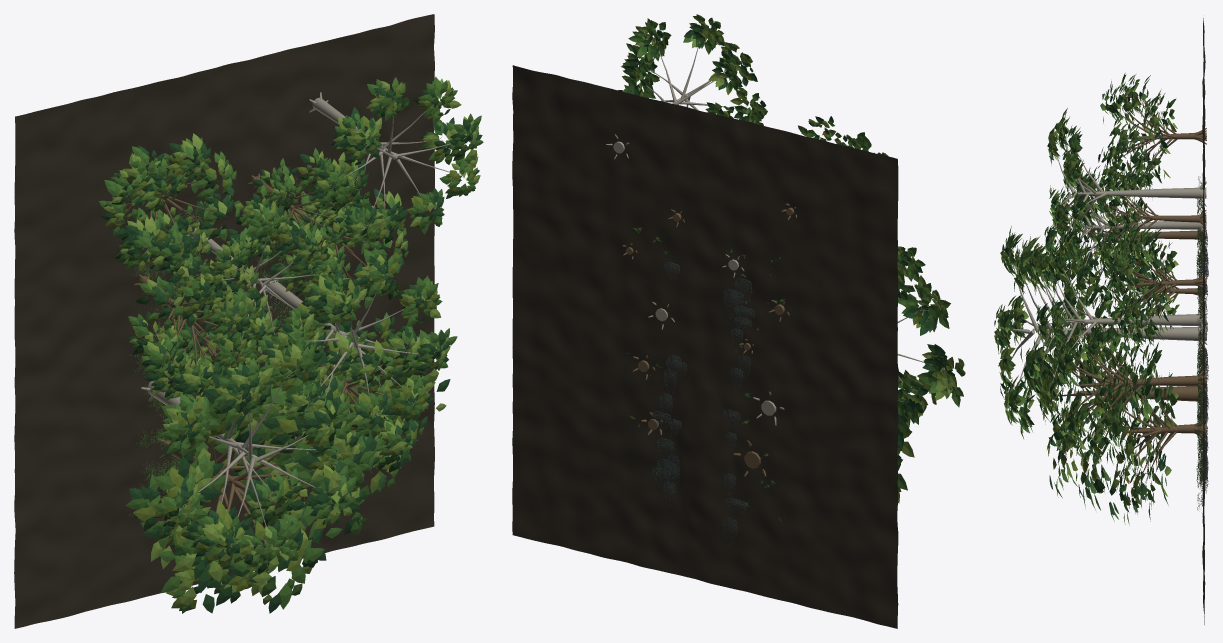
Rendered from forest-set.glb.
3 renders of one model, left to right at view 1: azimuth 30°, elevation 25°; view 2: azimuth 150°, elevation 25°; view 3: azimuth 270°, elevation 25°, orthographic. The views are drawn at different scales.
Visible parts, largest first — view 1: Forest terrain, Woodland tree 02, Woodland tree 00, Woodland tree 05, Woodland tree 11, Woodland tree 10, Woodland tree 06, Woodland tree 08, Woodland tree 03, Woodland tree 09, Woodland tree 07, Woodland tree 01 (+2 smaller); view 2: Forest terrain, Woodland tree 11, Woodland tree 02, Woodland tree 00, Woodland tree 10; view 3: Woodland tree 01, Woodland tree 03, Woodland tree 02, Woodland tree 00, Woodland tree 05, Woodland tree 07, Woodland tree 10, Woodland tree 11, Woodland tree 09, Woodland tree 08, Woodland tree 06, Woodland tree 04 (+2 smaller).
Part boxes in pixels (bbox=[...]): Forest terrain: bbox=[14, 14, 434, 628]; Woodland tree 02: bbox=[141, 341, 358, 574]; Woodland tree 00: bbox=[125, 367, 375, 613]; Woodland tree 05: bbox=[264, 247, 457, 438]; Woodland tree 11: bbox=[309, 76, 483, 245]; Woodland tree 10: bbox=[99, 133, 247, 279]; Woodland tree 06: bbox=[126, 253, 275, 401]; Woodland tree 08: bbox=[186, 205, 346, 369]; Woodland tree 03: bbox=[280, 312, 450, 487]; Woodland tree 09: bbox=[241, 148, 361, 276]; Woodland tree 07: bbox=[275, 184, 408, 315]; Woodland tree 01: bbox=[214, 327, 420, 538]; Forest terrain: bbox=[512, 65, 898, 628]; Woodland tree 11: bbox=[606, 14, 767, 159]; Woodland tree 02: bbox=[753, 246, 965, 427]; Woodland tree 00: bbox=[733, 367, 921, 503]; Woodland tree 10: bbox=[781, 116, 888, 220]; Woodland tree 01: bbox=[1101, 337, 1206, 524]; Woodland tree 03: bbox=[1044, 307, 1207, 464]; Woodland tree 02: bbox=[994, 226, 1207, 438]; Woodland tree 00: bbox=[1042, 272, 1206, 510]; Woodland tree 05: bbox=[1028, 241, 1206, 413]; Woodland tree 07: bbox=[1101, 214, 1206, 346]; Woodland tree 10: bbox=[1098, 73, 1206, 197]; Woodland tree 11: bbox=[1044, 108, 1206, 265]; Woodland tree 09: bbox=[1090, 163, 1206, 267]; Woodland tree 08: bbox=[1059, 159, 1206, 297]; Woodland tree 06: bbox=[1067, 171, 1206, 306]; Woodland tree 04: bbox=[1105, 229, 1206, 356].
Size of the model in its own units: 36 by 44.23 by 18.6.
